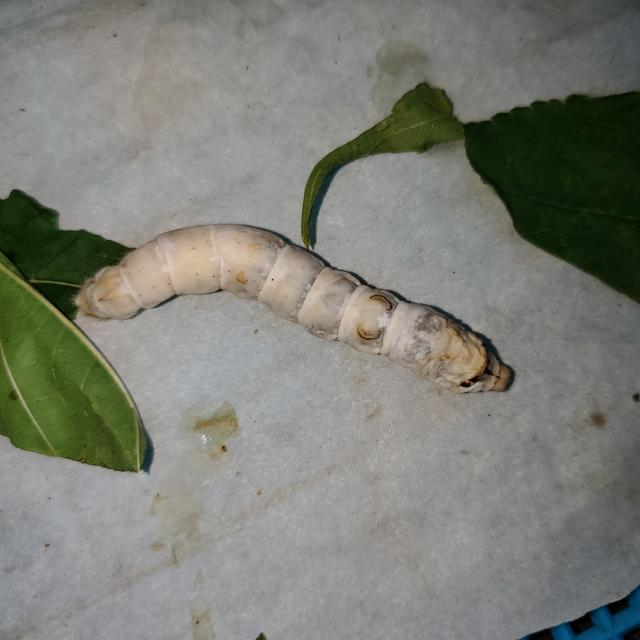Grasserie: (64, 208, 536, 451)
